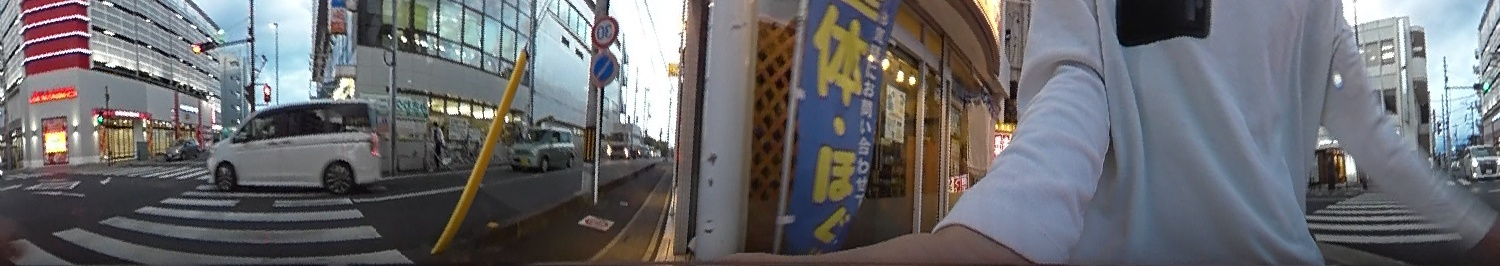difficult_person: (427, 115, 446, 168)
